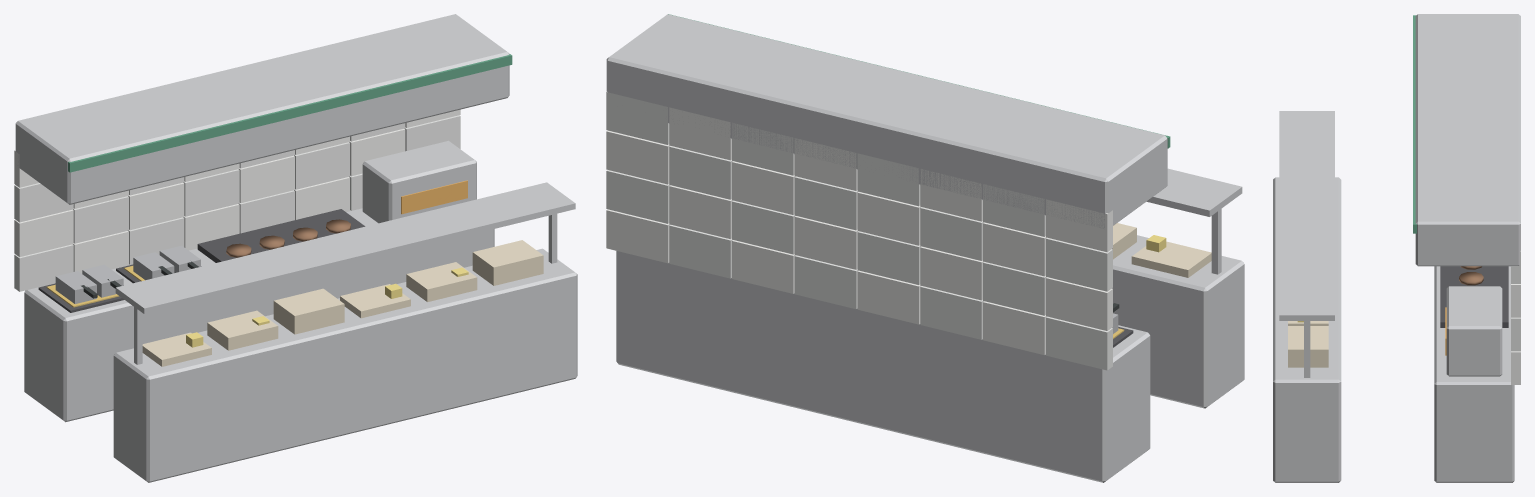
File: kitchen-pizza.glb
3 renders of one model, left to right at view 1: azimuth 30°, elevation 25°; view 2: azimuth 150°, elevation 25°; view 3: azimuth 270°, elevation 25°, orthographic. The views are drawn at different scales.
Visible parts, largest first — view 1: kitchen-pizza; view 2: kitchen-pizza; view 3: kitchen-pizza.
Boxes of the visible parts, x1,y1,x2,y2 form: kitchen-pizza: (14,14,577,482); kitchen-pizza: (606,14,1244,482); kitchen-pizza: (1273,14,1520,482).
Size of the model in its own units: 4 by 2.35 by 2.
